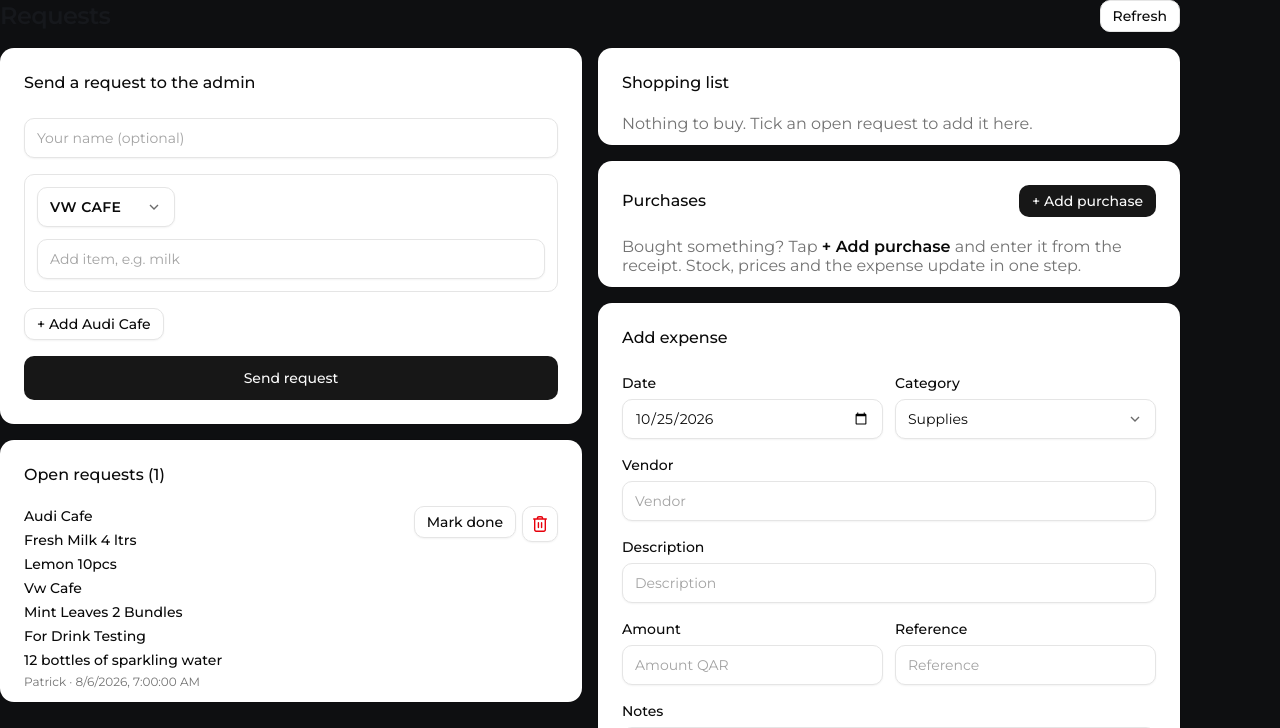
Test: raising an expense from a requested item › fills the description with the quantity, the name and the cafe
The image size is (1280, 728).
Click the button titled "Open this request".
click(58, 516)  # box [24,506,402,690]
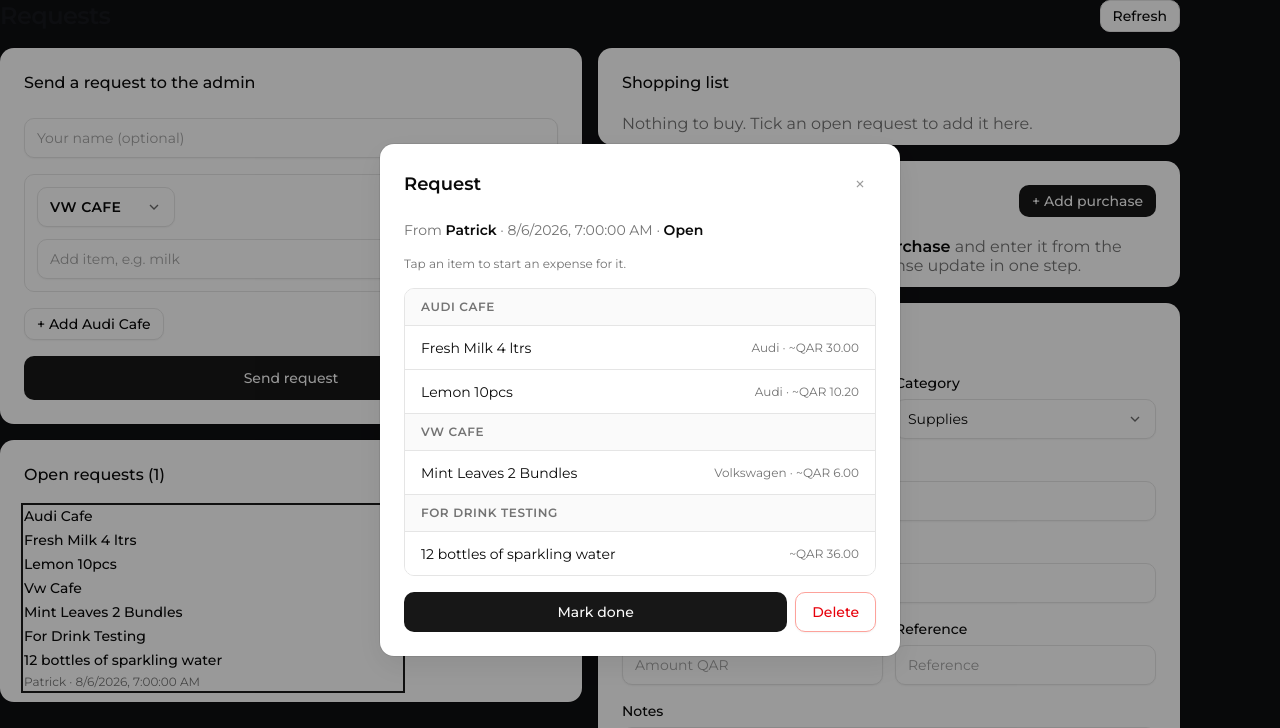
Click the button "Fresh Milk 4 ltrs Audi · ~QAR 30.00".
click(476, 348)  # box [405,325,875,369]
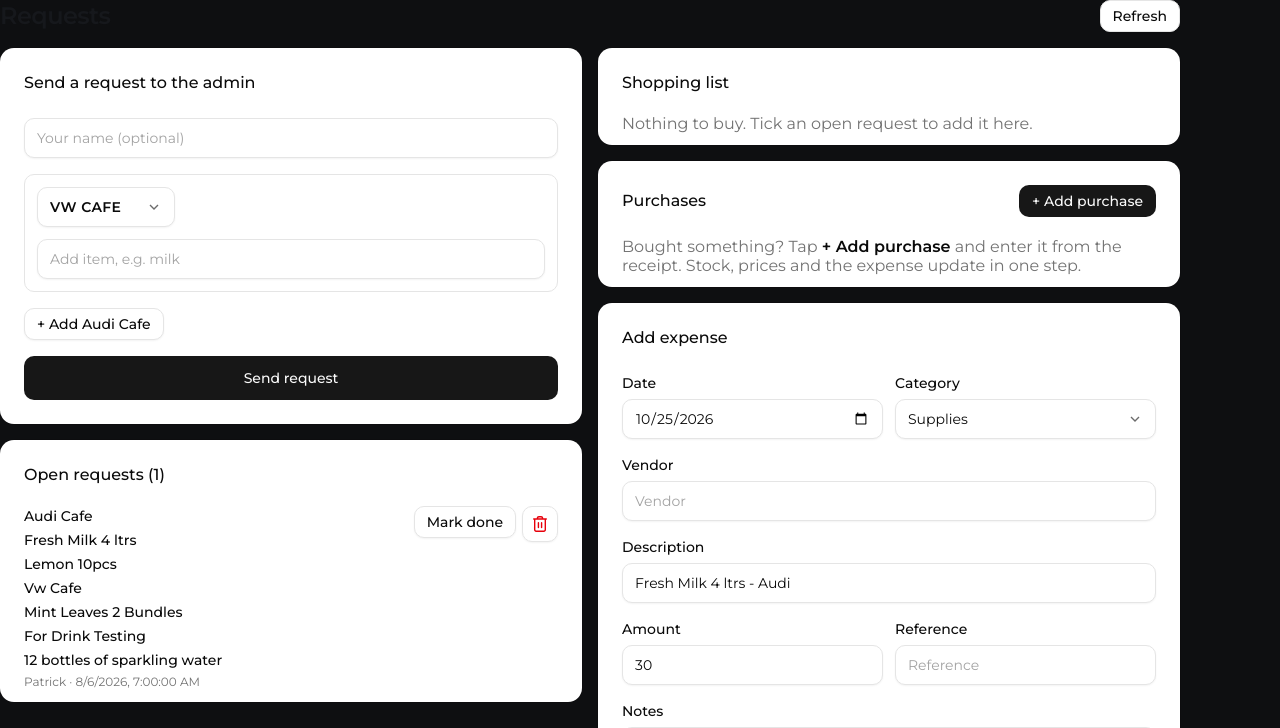
Expected: the field with placeholder "Description" holds "Fresh Milk 4 ltrs - Audi", [622,563,1156,603]
